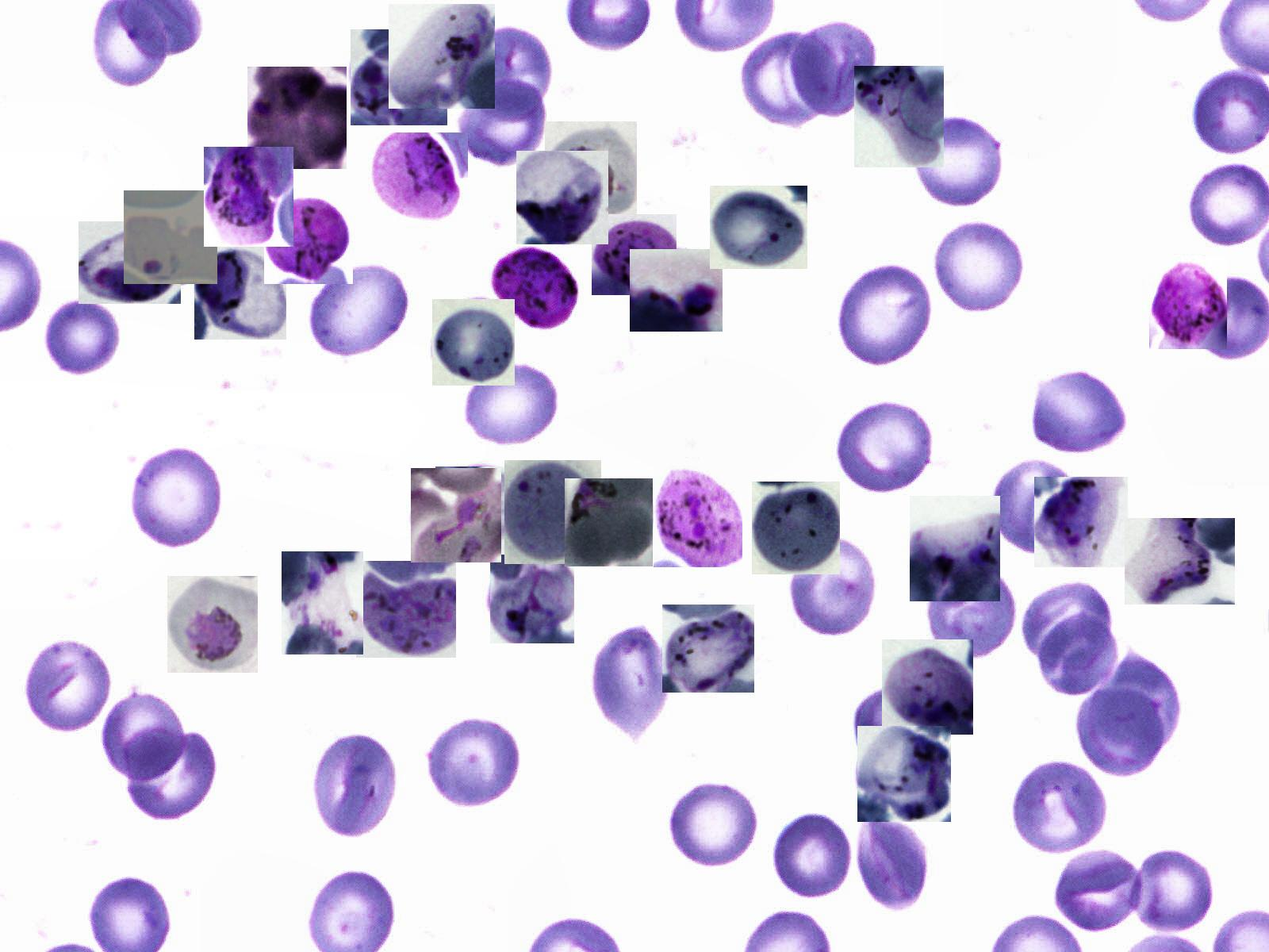Infected: (389, 4, 495, 109), (247, 67, 347, 169), (504, 460, 601, 564), (356, 561, 456, 658), (1125, 518, 1235, 605), (654, 459, 742, 567), (910, 497, 1000, 602), (351, 29, 447, 125), (370, 132, 468, 225), (854, 66, 944, 167), (857, 726, 951, 822), (545, 121, 637, 218), (204, 147, 293, 247), (435, 466, 535, 555), (194, 244, 286, 340), (167, 576, 258, 673), (882, 639, 973, 735), (125, 190, 217, 284), (516, 151, 608, 244), (79, 221, 181, 304), (1034, 477, 1128, 567), (411, 468, 501, 562), (282, 551, 363, 654), (490, 247, 583, 335), (662, 605, 754, 693), (711, 186, 808, 269), (753, 482, 840, 574), (490, 551, 574, 644), (565, 478, 653, 566), (264, 198, 353, 285), (630, 249, 723, 332), (1149, 256, 1227, 349), (432, 299, 515, 386), (592, 214, 677, 295)
Uninfected: (831, 259, 937, 369), (128, 442, 228, 551), (305, 260, 414, 359), (585, 620, 674, 738), (988, 455, 1090, 556), (908, 110, 1009, 209), (836, 397, 933, 500), (925, 559, 1021, 663), (1087, 649, 1181, 755), (424, 714, 526, 810), (788, 530, 876, 639), (930, 217, 1029, 313), (308, 731, 398, 836), (1010, 763, 1110, 857), (742, 30, 840, 125), (788, 16, 878, 119), (458, 75, 552, 173), (121, 727, 218, 820), (464, 23, 558, 117), (100, 689, 190, 787), (26, 638, 116, 736), (461, 361, 562, 448), (1029, 367, 1130, 453), (1075, 684, 1165, 780), (1047, 849, 1148, 934), (666, 779, 758, 870), (1130, 843, 1217, 939), (770, 808, 857, 902), (850, 684, 945, 770), (856, 813, 930, 912), (1025, 582, 1113, 665), (1038, 610, 1119, 697), (43, 298, 121, 374)
